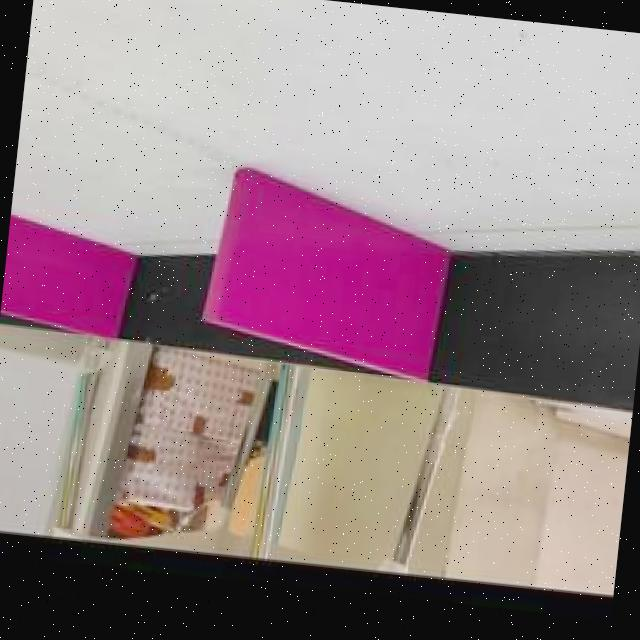xparking: (204, 187, 439, 341), (0, 218, 125, 322)
